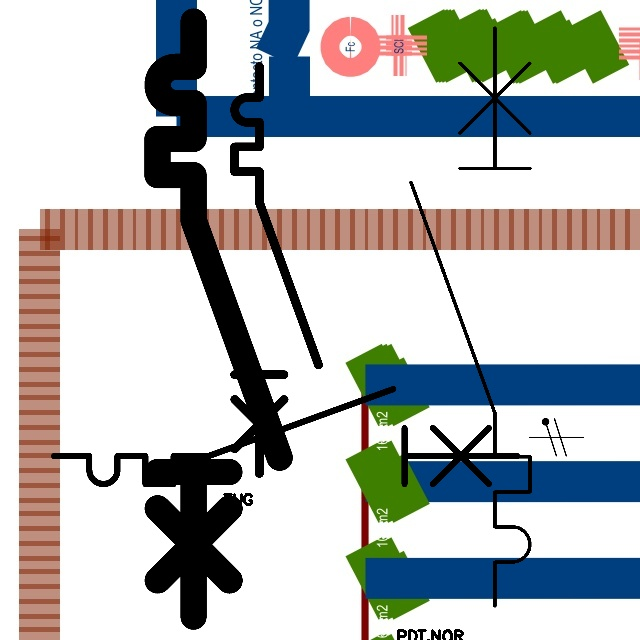interruptor_termomagnetico: (142, 6, 295, 631), (396, 13, 545, 621), (42, 377, 529, 496), (224, 56, 328, 484)
